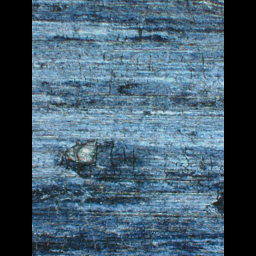d: (52, 137, 107, 182)
